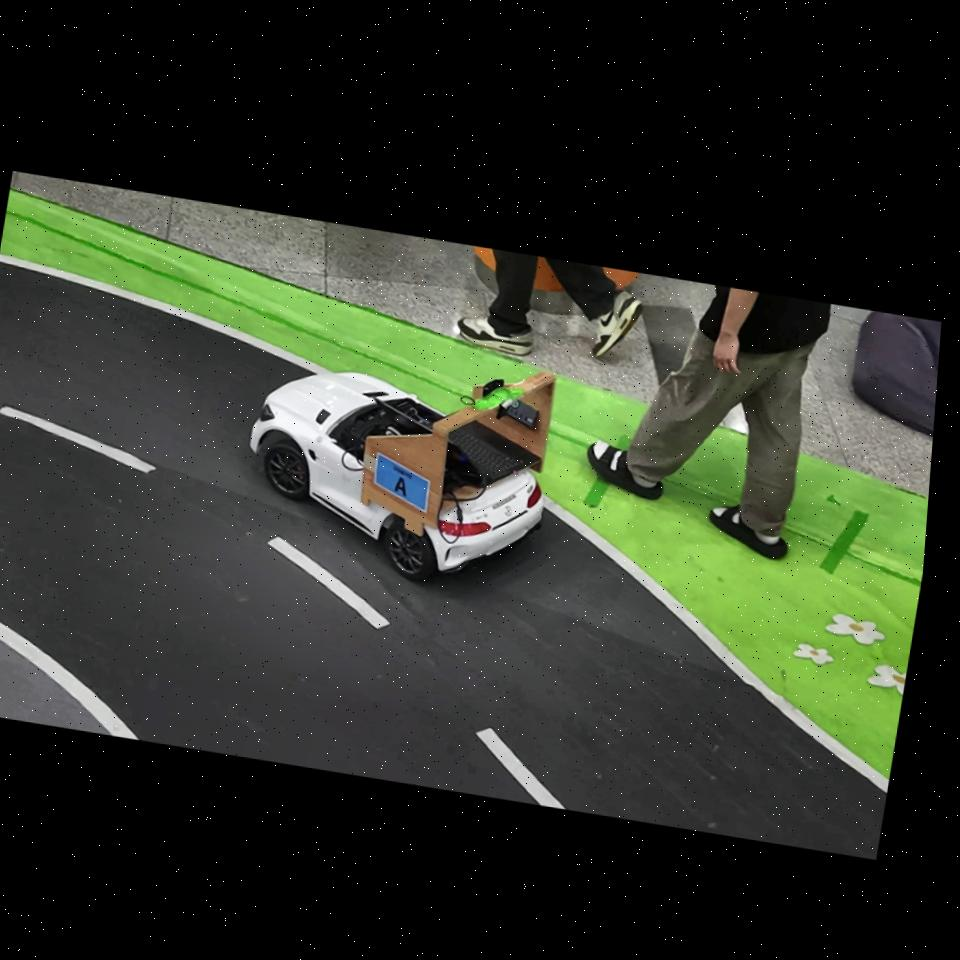broken_line: (268, 537, 389, 629), (0, 406, 157, 474), (475, 727, 565, 809)
